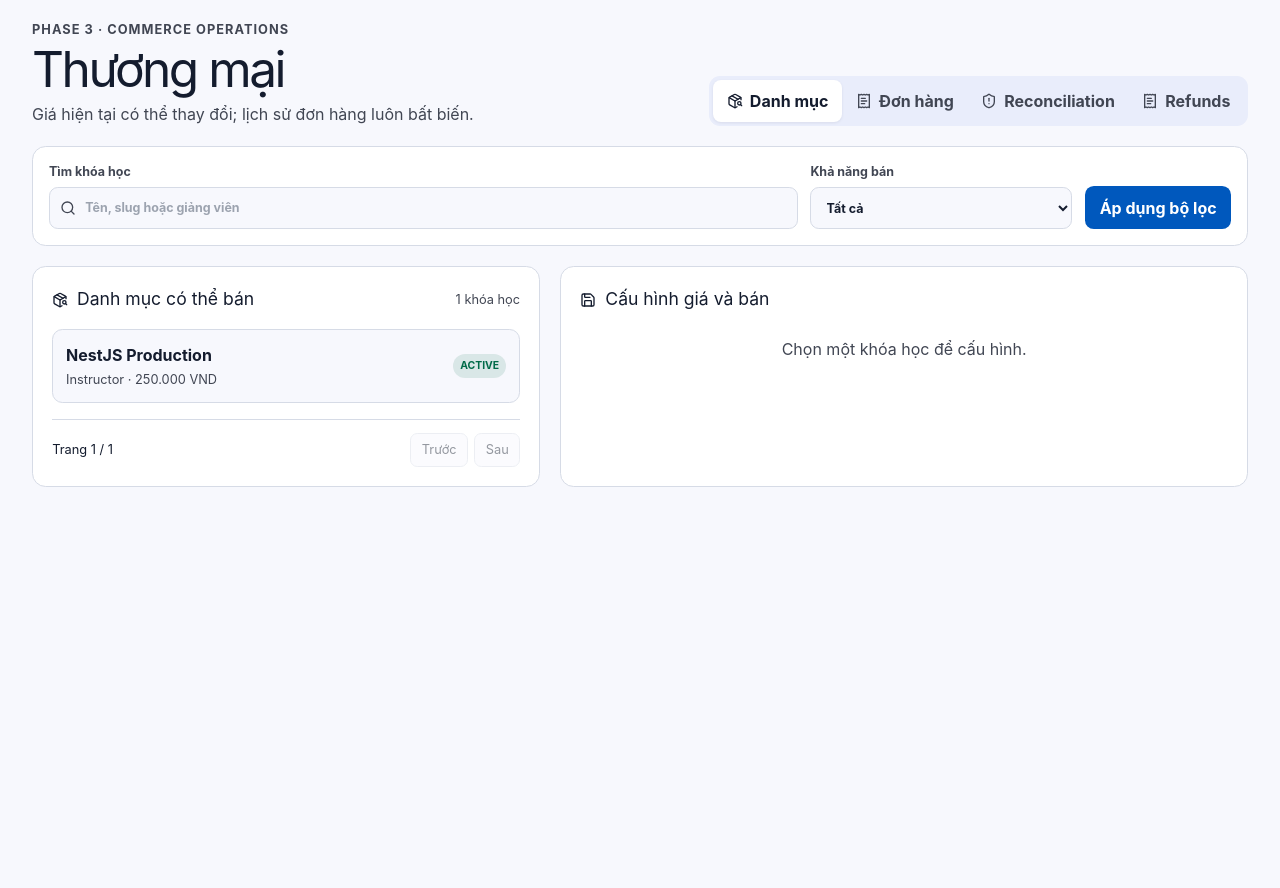
AdminCommercePage › loads read-only safe order lifecycle details
What coordinates should you click on to do the following:
click the tab "Đơn hàng"
I would click on:
 (905, 101)
Its box is [842, 80, 967, 122].
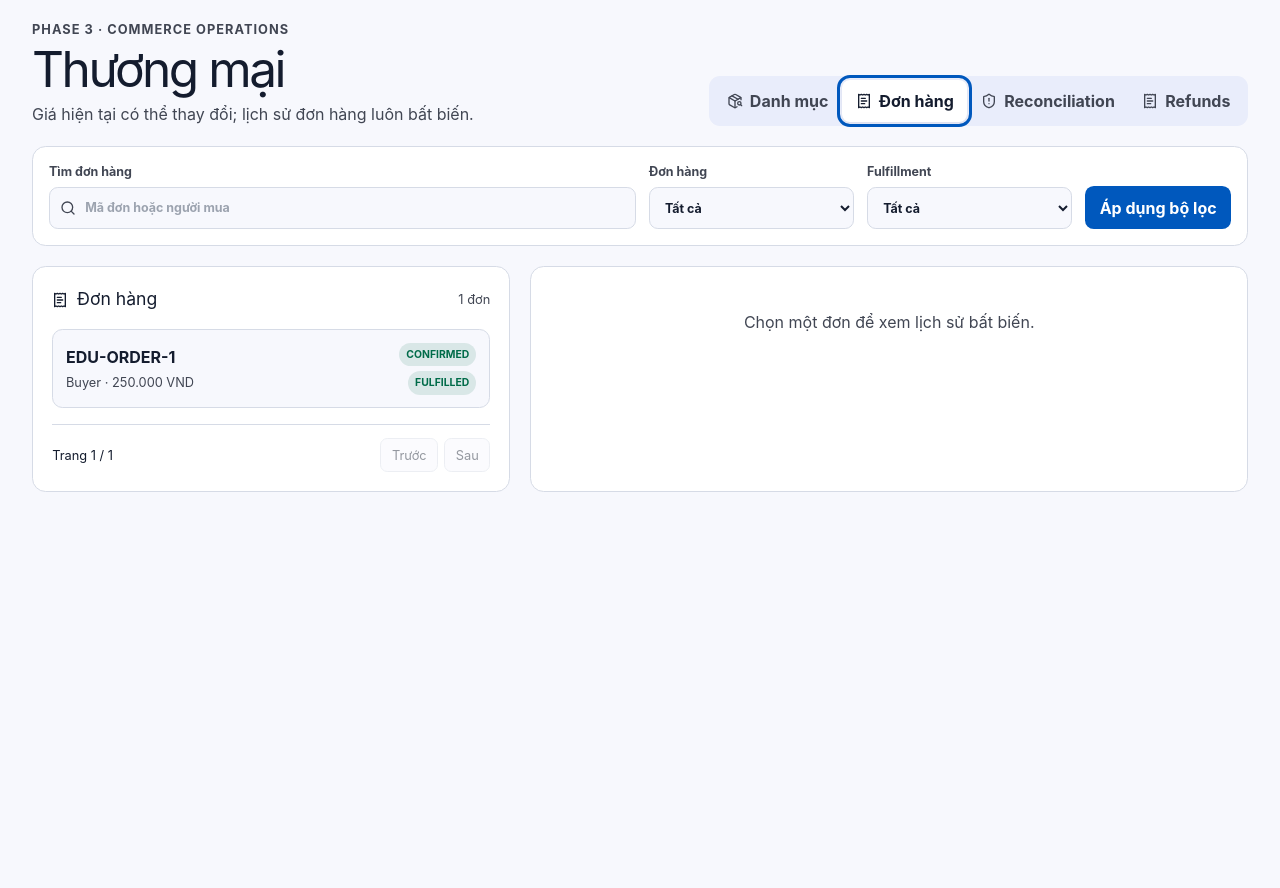
What coordinates should you click on to do the following:
click the button with aria-label "Xem đơn EDU-ORDER-1"
I would click on:
 (121, 357)
Its box is [52, 329, 490, 408].
(page scrolled)
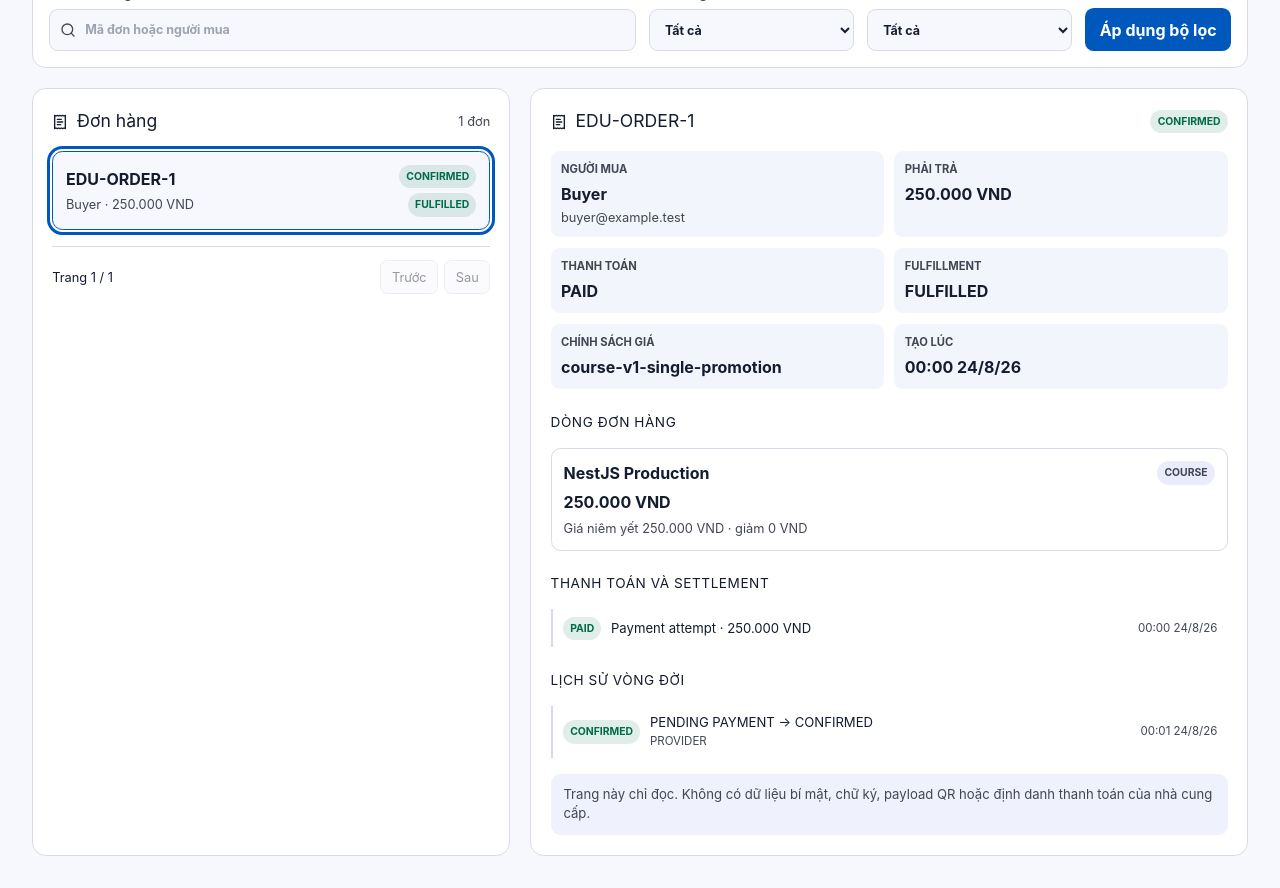
Expected: the heading "EDU-ORDER-1" is shown, [575, 108, 694, 135]
Expected: the text "PENDING PAYMENT → CONFIRMED" is shown, [650, 714, 873, 748]
Expected: the text "Trang này chỉ đọc" is shown, [563, 786, 1212, 822]
